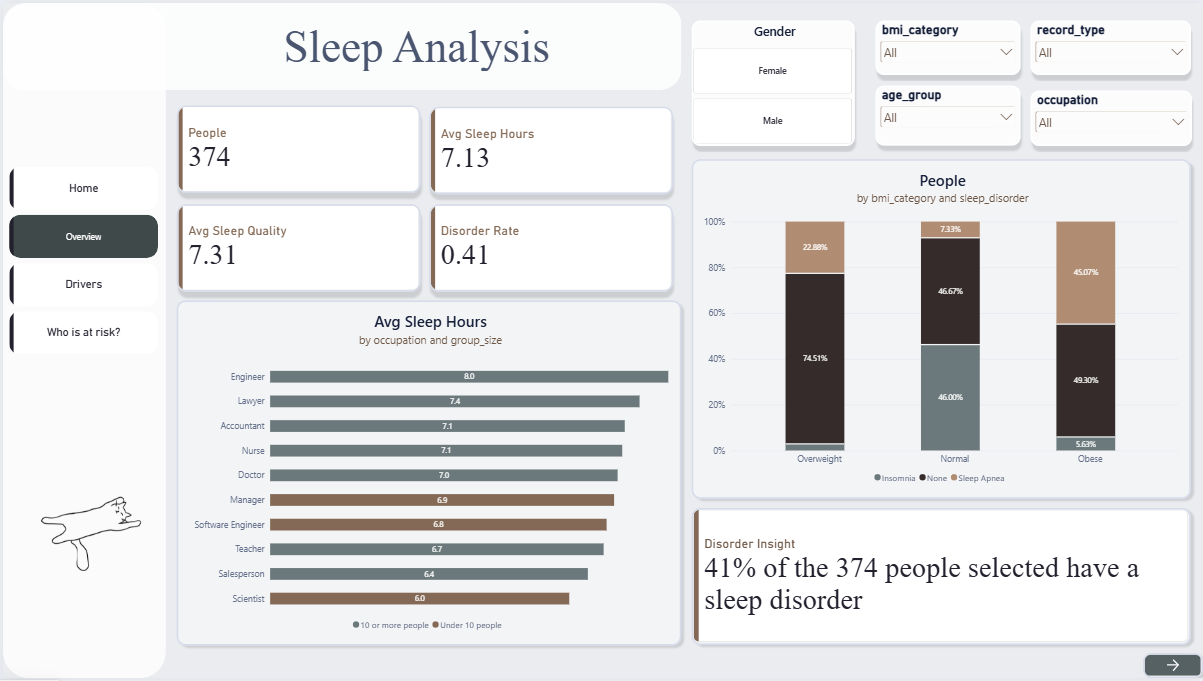

The page's visual inventory and layout, read from the dashboard file:
{"tool":"powerbi","page":{"name":"Overview","canvas":[1920,1080],"ordinal":1},"visuals":[{"type":"shape","box":[0,0,1085.8,139.3],"z":0},{"type":"shape","box":[0,0,260.6,1080.4],"z":1000},{"type":"advancedSlicerVisual","title":"Gender","fields":{"Values":["fact_sleep.gender"]},"box":[1102.1,27.1,260.6,200.9],"z":2000},{"type":"slicer","fields":{"Values":["fact_sleep.record_type"]},"box":[1643.2,27.1,257,86.9],"z":3000},{"type":"slicer","fields":{"Values":["dim_bmi.bmi_category"]},"box":[1395.2,27.1,231.6,86.9],"z":4000},{"type":"slicer","fields":{"Values":["dim_occupation.occupation"]},"box":[1643.2,139.3,258.8,88.7],"z":5000},{"type":"slicer","fields":{"Values":["dim_age_group.age_group"]},"box":[1395.2,132.1,231.6,95.9],"z":6000},{"type":"cardVisual","fields":{"Data":["_measures.People"]},"box":[278.7,164.7,390,140],"z":7000},{"type":"cardVisual","fields":{"Data":["_measures.Avg Sleep Hours"]},"box":[682.2,166.5,390,140],"z":8000},{"type":"cardVisual","fields":{"Data":["_measures.Avg Sleep Quality"]},"box":[278.7,322.1,390,140],"z":9000},{"type":"cardVisual","fields":{"Data":["_measures.Disorder Rate"]},"box":[682.2,322.1,390,140],"z":10000},{"type":"barChart","fields":{"Category":["dim_occupation.occupation"],"Series":["dim_occupation.group_size"],"Y":["_measures.Avg Sleep Hours"]},"box":[278.7,475.9,807.1,551.9],"z":11000},{"type":"hundredPercentStackedColumnChart","fields":{"Category":["dim_bmi.bmi_category"],"Y":["_measures.People"],"Series":["fact_sleep.sleep_disorder"]},"box":[1102.1,249.7,798.1,542.9],"z":12000},{"type":"textbox","box":[260.6,27.1,803.5,86.9],"z":13000},{"type":"pageNavigator","box":[10.9,262.4,238.9,302.2],"z":14000},{"type":"actionButton","box":[1824,1040,96,40],"z":15000},{"type":"image","box":[0,564.6,278.7,515.8],"z":16000},{"type":"cardVisual","fields":{"Data":["_measures.Disorder Insight"]},"box":[1102.1,808.9,798.1,219],"z":16001}]}

Visuals, with their boxes in screenshot pixels (x1, y1, x2, y2), scaled from the page's 1920x1080 canvas onto the 1203x681 screenshot:
shape: {"left": 0, "top": 0, "right": 680, "bottom": 88}
shape: {"left": 0, "top": 0, "right": 163, "bottom": 680}
"Gender" advancedSlicerVisual: {"left": 691, "top": 17, "right": 854, "bottom": 144}
slicer - fact_sleep.record_type: {"left": 1030, "top": 17, "right": 1191, "bottom": 72}
slicer - dim_bmi.bmi_category: {"left": 874, "top": 17, "right": 1019, "bottom": 72}
slicer - dim_occupation.occupation: {"left": 1030, "top": 88, "right": 1192, "bottom": 144}
slicer - dim_age_group.age_group: {"left": 874, "top": 83, "right": 1019, "bottom": 144}
cardVisual - _measures.People: {"left": 175, "top": 104, "right": 419, "bottom": 192}
cardVisual - _measures.Avg Sleep Hours: {"left": 427, "top": 105, "right": 672, "bottom": 193}
cardVisual - _measures.Avg Sleep Quality: {"left": 175, "top": 203, "right": 419, "bottom": 291}
cardVisual - _measures.Disorder Rate: {"left": 427, "top": 203, "right": 672, "bottom": 291}
barChart - dim_occupation.occupation x dim_occupation.group_size: {"left": 175, "top": 300, "right": 680, "bottom": 648}
hundredPercentStackedColumnChart - dim_bmi.bmi_category x _measures.People: {"left": 691, "top": 157, "right": 1191, "bottom": 500}
textbox: {"left": 163, "top": 17, "right": 667, "bottom": 72}
pageNavigator: {"left": 7, "top": 165, "right": 157, "bottom": 356}
actionButton: {"left": 1143, "top": 656, "right": 1202, "bottom": 680}
image: {"left": 0, "top": 356, "right": 175, "bottom": 680}
cardVisual - _measures.Disorder Insight: {"left": 691, "top": 510, "right": 1191, "bottom": 648}
